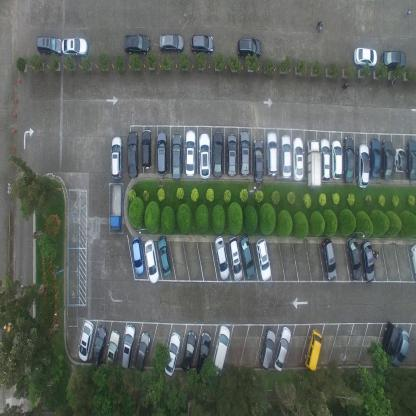car: (212, 324, 231, 376), (379, 320, 400, 366), (273, 324, 292, 372), (304, 328, 323, 372), (120, 323, 136, 373), (195, 330, 211, 378), (306, 138, 321, 189), (240, 233, 256, 280), (259, 327, 276, 371), (164, 331, 180, 377), (346, 234, 362, 280), (144, 238, 160, 284), (391, 328, 410, 366), (104, 329, 120, 374), (320, 237, 336, 282), (214, 236, 230, 281), (134, 331, 151, 373), (110, 182, 124, 233), (228, 235, 243, 282), (78, 318, 94, 362), (181, 330, 197, 373), (91, 324, 107, 367), (255, 238, 271, 281), (122, 32, 151, 55), (360, 239, 375, 283), (235, 37, 262, 60), (61, 34, 88, 57), (238, 129, 251, 176), (342, 135, 354, 185), (381, 48, 406, 72), (110, 134, 123, 180), (158, 33, 185, 55), (198, 132, 210, 180), (127, 131, 139, 179), (190, 32, 214, 56), (354, 44, 377, 69), (37, 36, 62, 59), (157, 236, 171, 277), (381, 137, 394, 181), (357, 141, 369, 188), (266, 130, 278, 177), (184, 129, 196, 176), (330, 139, 343, 181), (212, 130, 223, 179), (171, 132, 182, 181), (253, 137, 264, 184), (156, 129, 167, 176), (280, 133, 291, 179), (226, 132, 237, 178), (369, 138, 381, 180), (319, 137, 330, 182), (132, 235, 144, 276), (292, 137, 303, 181), (141, 128, 152, 168), (406, 138, 416, 181), (394, 146, 405, 173), (409, 242, 416, 280)
